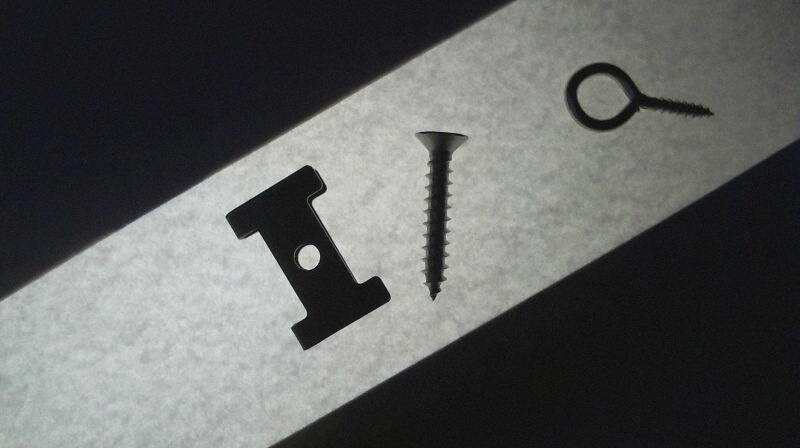O001: (562, 61, 715, 133)
O002: (227, 164, 391, 348)
S001: (409, 127, 470, 301)
